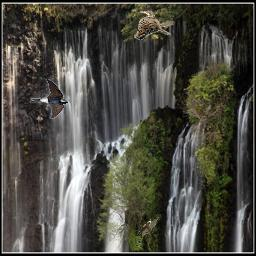Cuckoo: (135, 217, 160, 247)
Sparrow: (134, 7, 174, 40)
Swallow: (30, 79, 68, 119)
